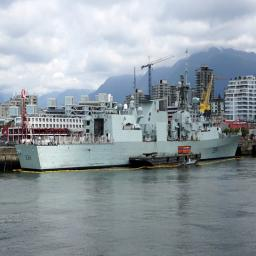Fragata: (15, 77, 245, 175)
